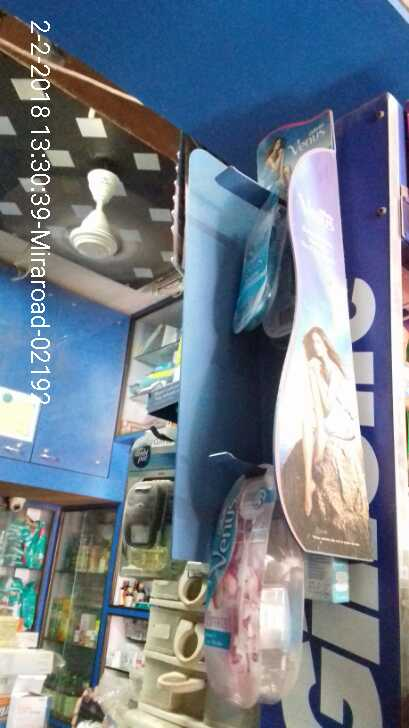home: (206, 478, 273, 686), (117, 452, 176, 593)
